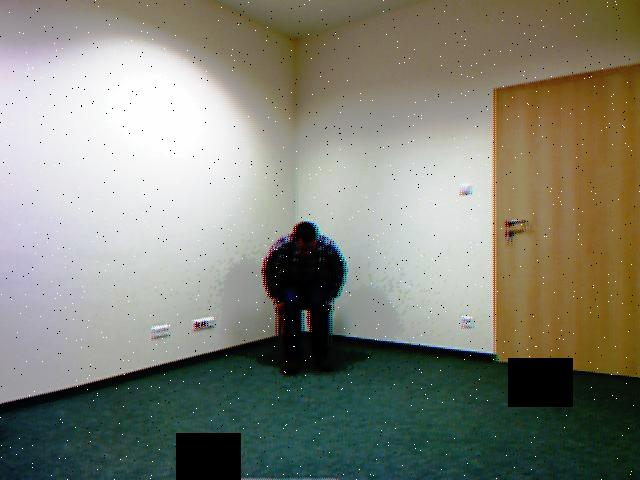bending: (252, 212, 360, 381)
